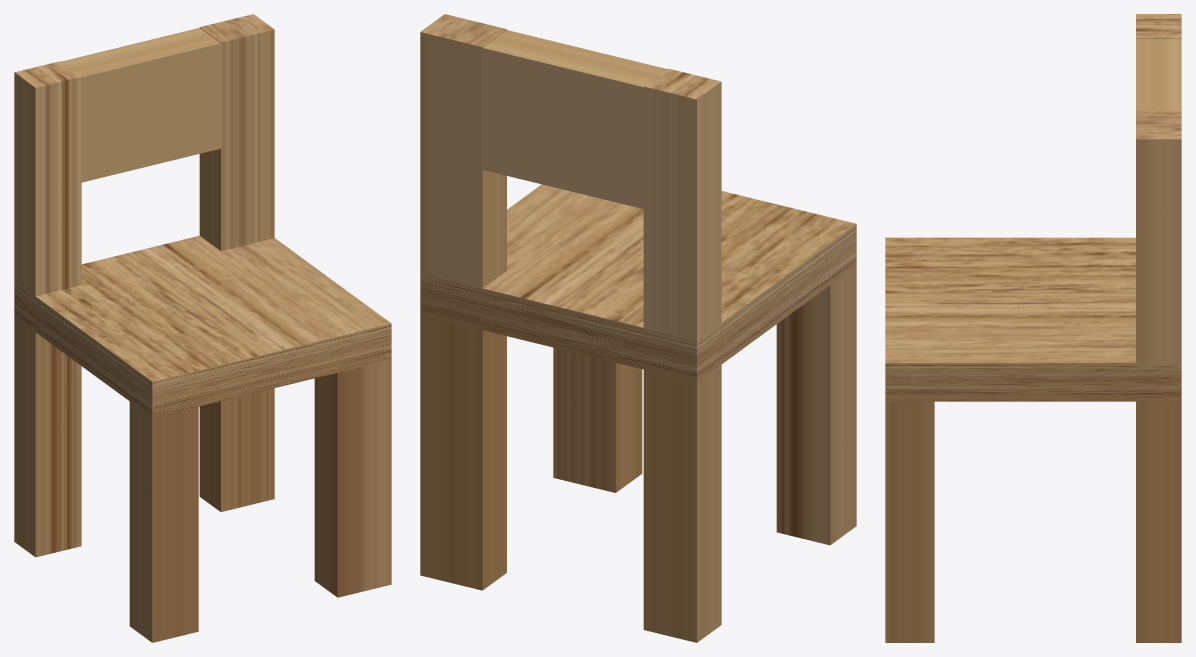
Rendered from kursi3.glb.
3 renders of one model, left to right at view 1: azimuth 30°, elevation 25°; view 2: azimuth 150°, elevation 25°; view 3: azimuth 270°, elevation 25°, orthographic. The views are drawn at different scales.
Visible parts, largest first — view 1: Cube; view 2: Cube; view 3: Cube.
Boxes of the visible parts, left/top/right/bottom form: Cube: left=14, top=14, right=391, bottom=642; Cube: left=420, top=14, right=856, bottom=642; Cube: left=885, top=14, right=1181, bottom=642.
Size of the model in its own units: 0.2339 by 0.4387 by 0.2339.
Materials: 1 (1 with a texture image).
